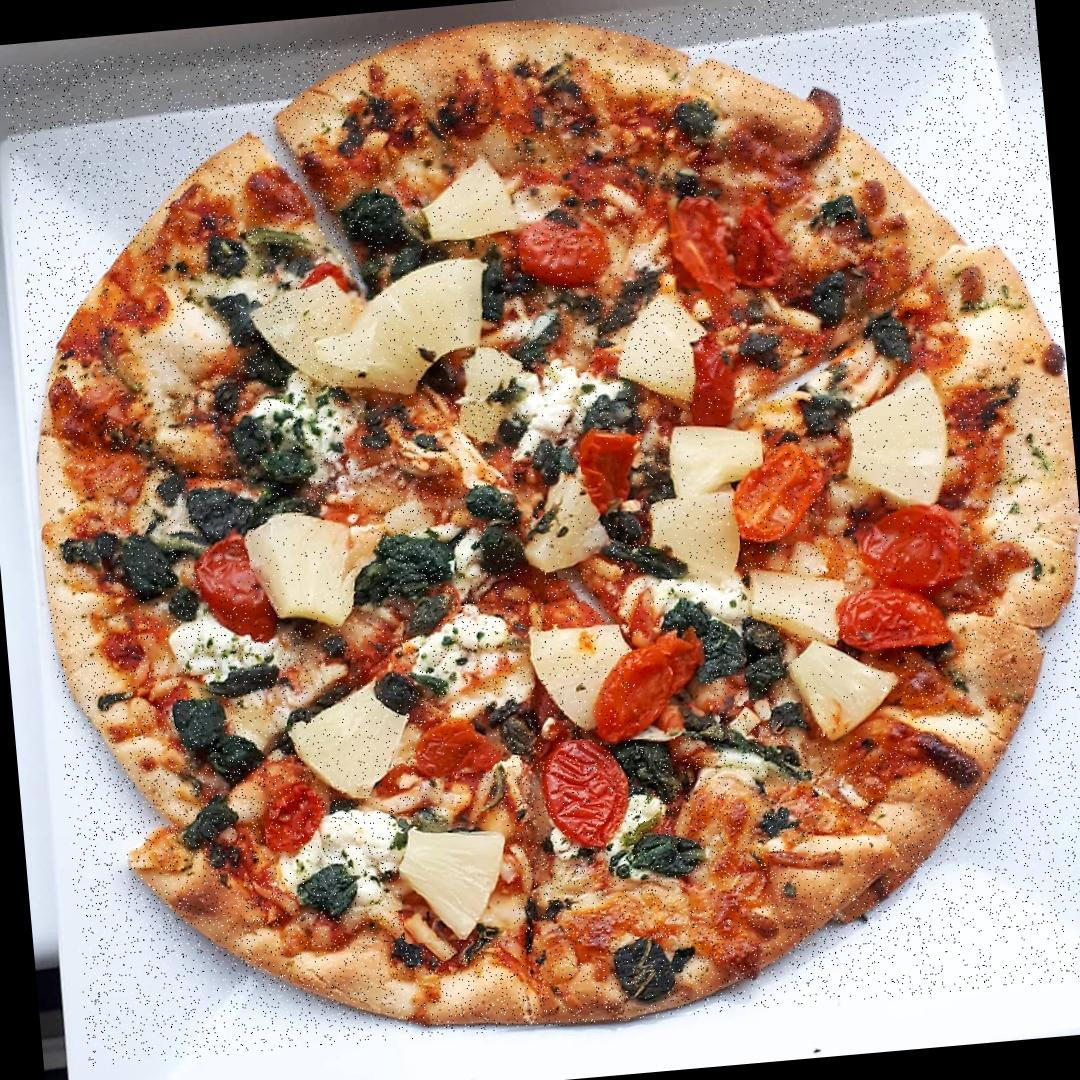Cheese: (639, 580, 753, 632), (418, 614, 505, 682), (274, 402, 349, 464), (526, 377, 592, 445), (188, 631, 274, 676)
Pineapple: (335, 259, 497, 403), (246, 510, 377, 634), (838, 372, 950, 510), (288, 684, 414, 805), (396, 821, 516, 944), (247, 279, 346, 409), (787, 636, 902, 747), (528, 621, 639, 735), (612, 293, 714, 412), (516, 473, 612, 574), (416, 155, 518, 244), (648, 495, 744, 588), (749, 561, 846, 646), (669, 417, 768, 499)
Pizza: (1, 0, 1080, 1068)
Tomatoes: (585, 632, 711, 744), (536, 742, 638, 856), (856, 501, 972, 595), (732, 441, 834, 547), (194, 528, 282, 644), (832, 587, 964, 660), (668, 197, 736, 300), (518, 212, 610, 288), (730, 199, 794, 290), (579, 430, 644, 516), (685, 336, 743, 430), (262, 782, 332, 856), (415, 719, 502, 778), (296, 262, 352, 300)
